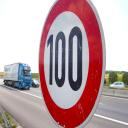speed_limit_100: (36, 0, 107, 128)
